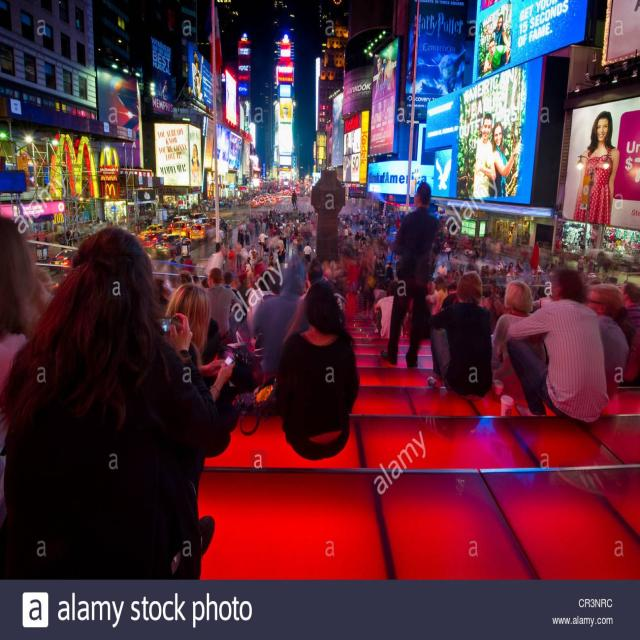body: (0, 226, 233, 582), (0, 213, 59, 535), (505, 264, 610, 430), (275, 278, 362, 464), (162, 282, 238, 470), (379, 180, 446, 371), (427, 270, 495, 400), (252, 252, 311, 377), (430, 219, 529, 287), (323, 209, 405, 286), (491, 278, 547, 388), (584, 281, 631, 401), (572, 110, 620, 224), (473, 113, 521, 207), (204, 266, 244, 347), (204, 210, 318, 234), (245, 269, 281, 334), (372, 43, 396, 126), (481, 9, 509, 75), (374, 280, 404, 340), (152, 268, 194, 304), (241, 179, 291, 202), (128, 200, 176, 223), (620, 280, 640, 329), (190, 196, 241, 210), (213, 125, 228, 162), (192, 52, 203, 98), (84, 214, 114, 228), (301, 240, 313, 271), (344, 134, 352, 180), (192, 145, 200, 186), (258, 229, 268, 259), (276, 244, 286, 271), (295, 231, 305, 256), (587, 254, 600, 273), (227, 245, 236, 272), (546, 258, 561, 274), (235, 240, 243, 269), (34, 233, 49, 248), (44, 222, 66, 232), (219, 241, 226, 271), (59, 234, 67, 260), (436, 261, 448, 278), (159, 79, 168, 97), (72, 226, 80, 246), (223, 232, 229, 258), (577, 255, 585, 274), (279, 232, 287, 250), (277, 236, 285, 253), (248, 245, 257, 260), (66, 226, 72, 246), (227, 224, 233, 244), (218, 226, 224, 246), (291, 189, 297, 208), (243, 230, 250, 246), (236, 228, 241, 250), (245, 258, 253, 271), (240, 228, 245, 248), (268, 251, 274, 264), (290, 230, 296, 242), (344, 226, 349, 240), (247, 256, 253, 266)
